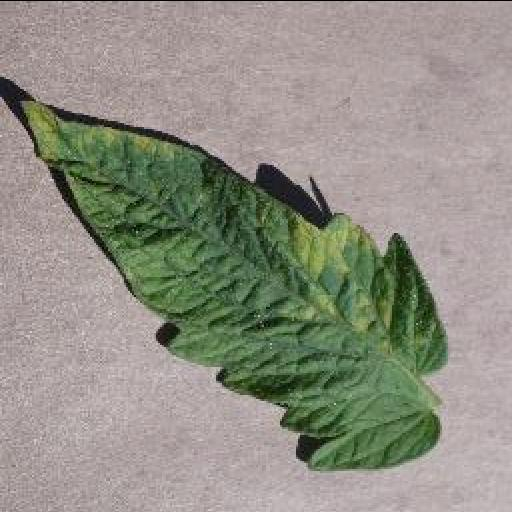disease_tomato: (20, 100, 450, 472)
